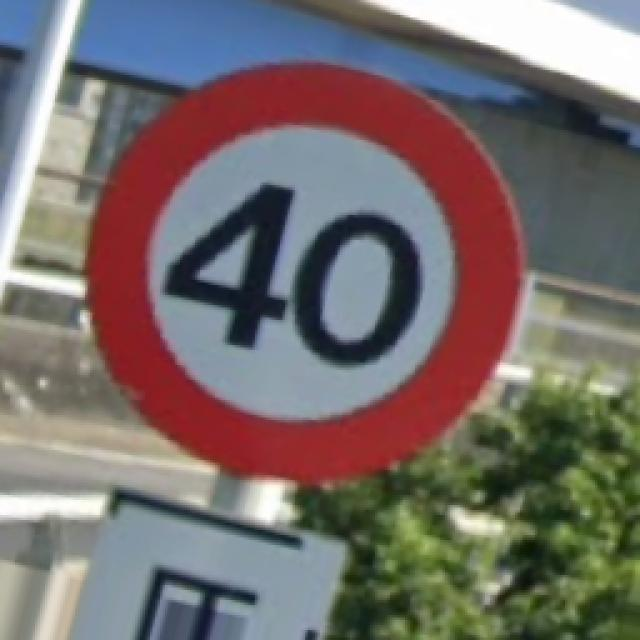Speed Limit -40-: (88, 62, 520, 480)
